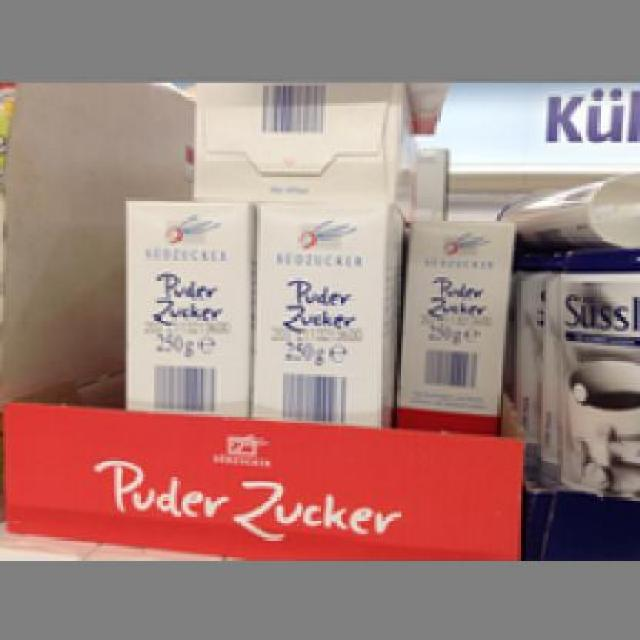Sugar: (251, 200, 400, 429), (118, 192, 252, 418), (394, 214, 512, 432)
